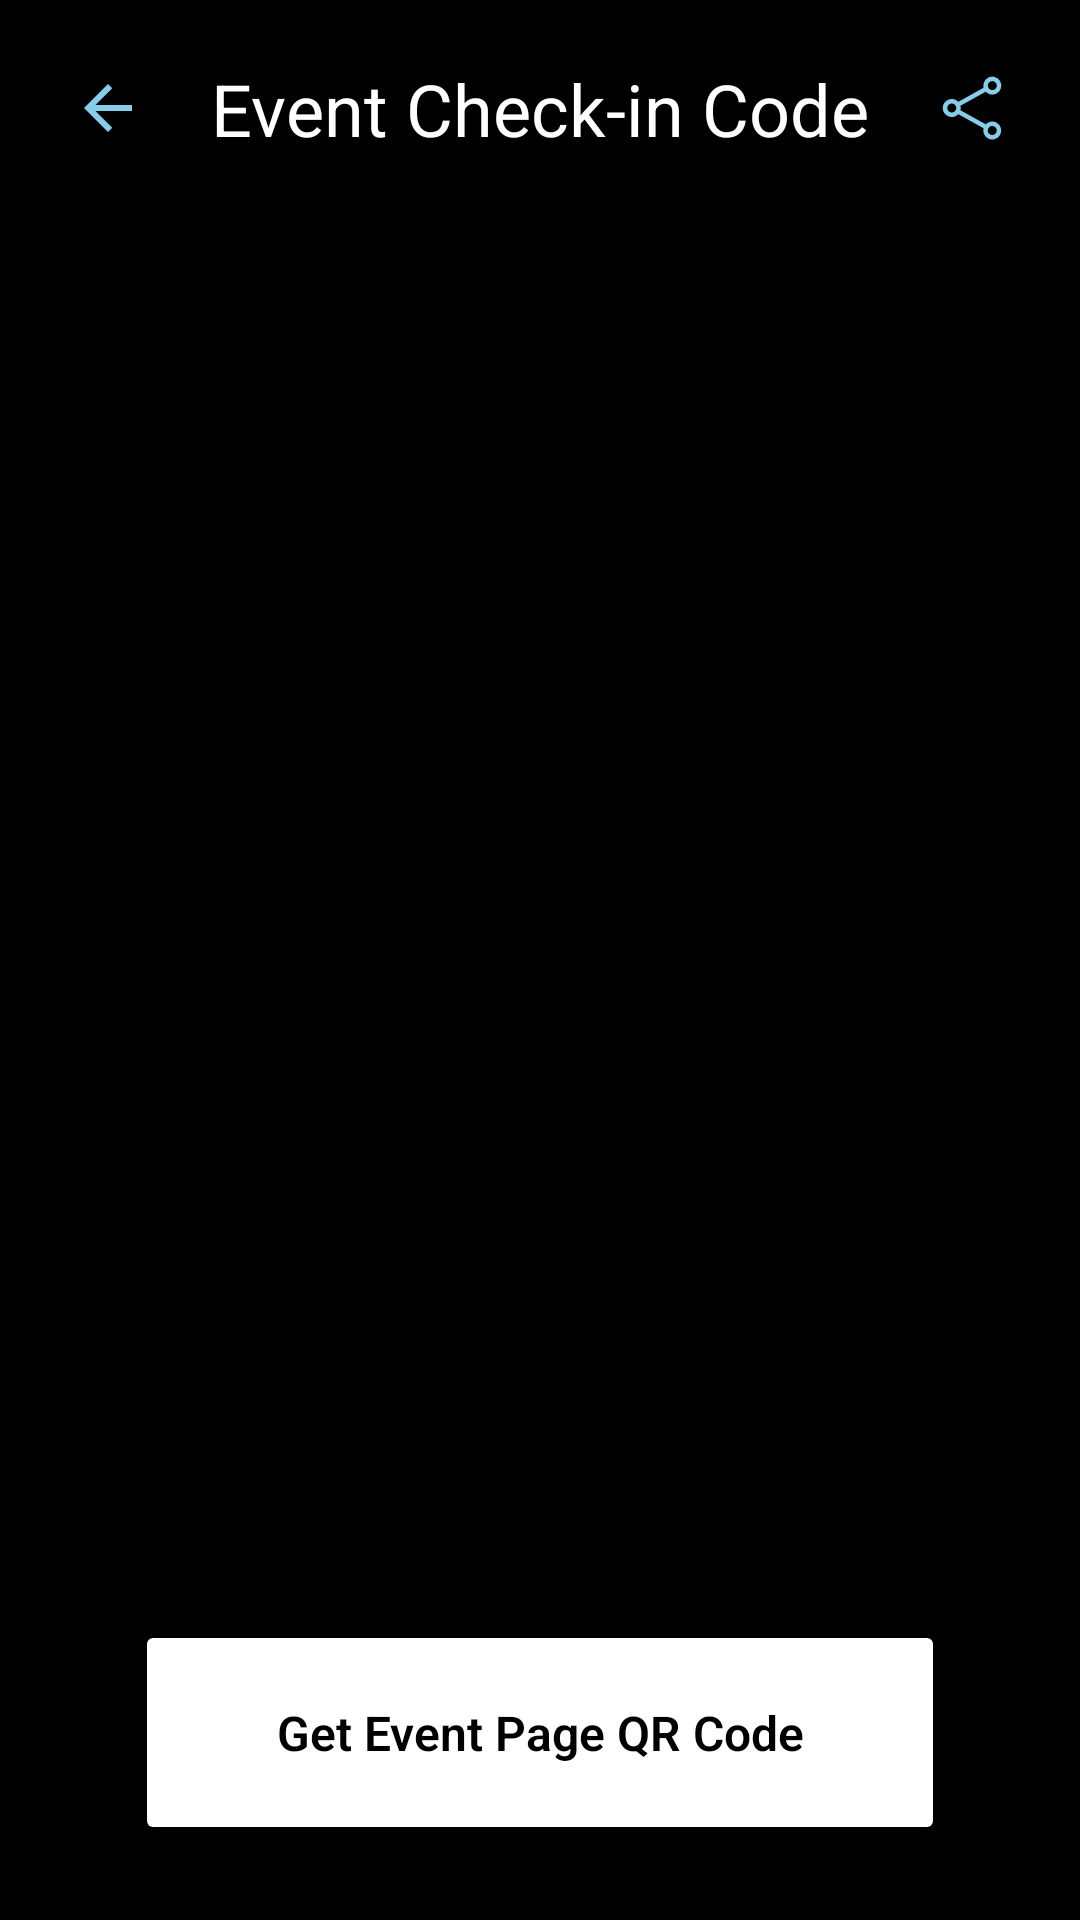

Point at icon controls on the screen. Image size 1080px x 1920px, points as point (x, y).
arrow back: point (108, 108)
share: point (972, 108)
